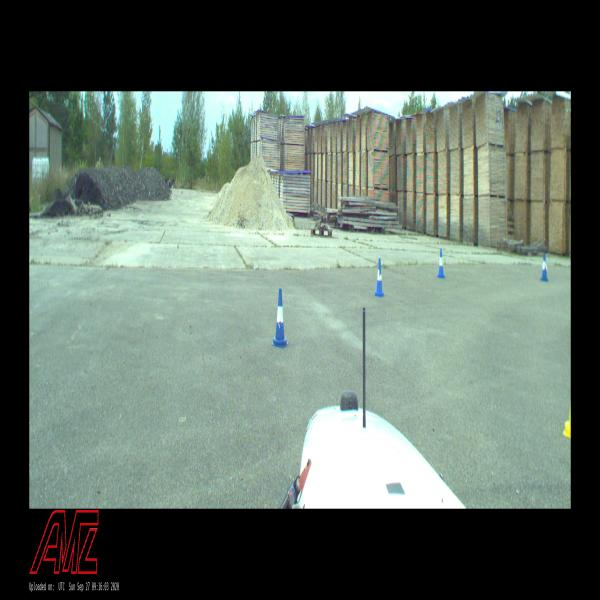blue_cone: (272, 289, 288, 349), (374, 259, 384, 297), (541, 252, 548, 281), (438, 248, 444, 278)
yellow_cone: (563, 398, 571, 438)
